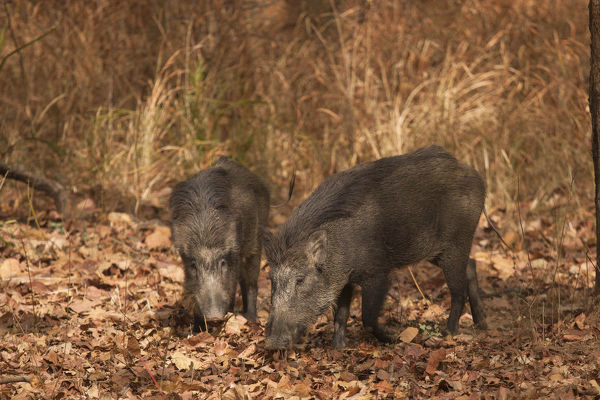wild boar: (261, 142, 491, 358), (148, 134, 275, 341)
